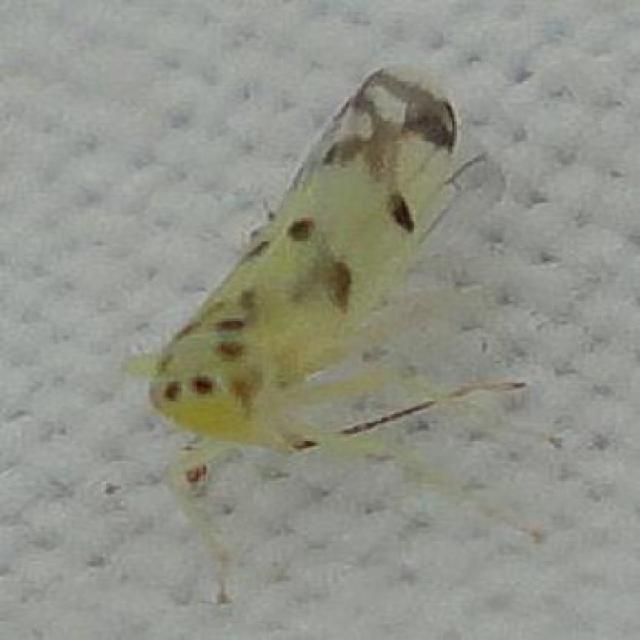green-leafhopper: (134, 60, 483, 486)
